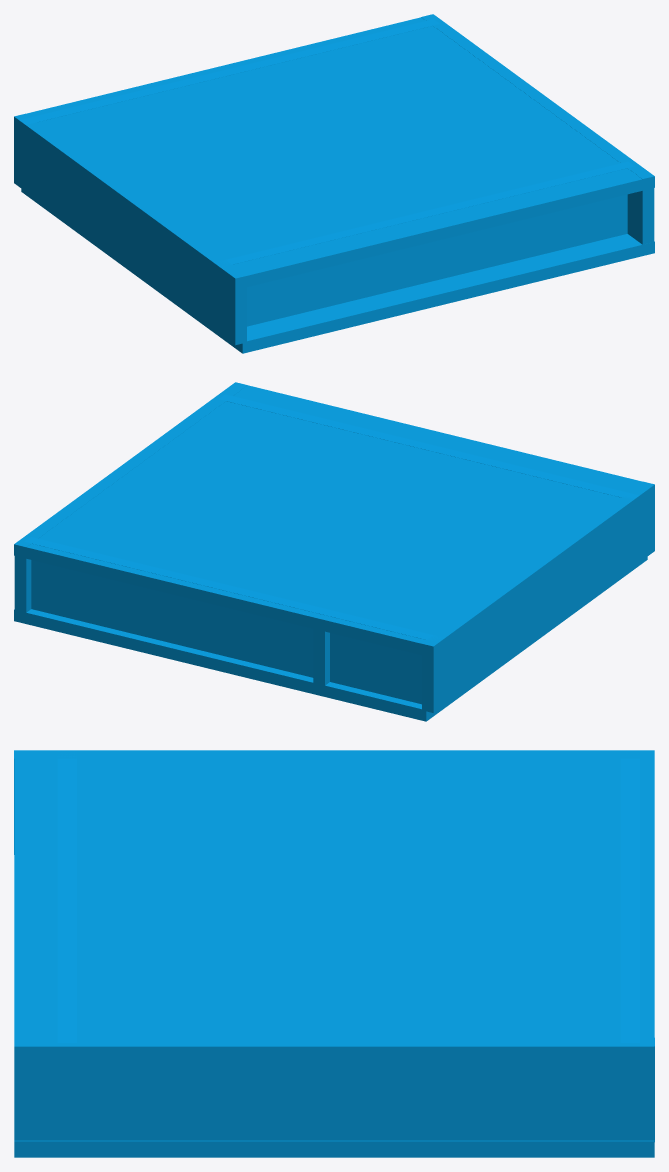
Rendered from vrlaserroomwithbottomandclosed.fbx.
3 renders of one model, top to bottom at view 1: azimuth 30°, elevation 25°; view 2: azimuth 150°, elevation 25°; view 3: azimuth 270°, elevation 25°, orthographic. The views are drawn at different scales.
Visible parts, largest first — view 1: root (×6); view 2: root (×7); view 3: root (×6).
Boxes of the visible parts, x1,y1,x2,y2 form: root (×6): [14, 14, 654, 353]; root (×7): [14, 382, 654, 721]; root (×6): [14, 750, 654, 1157].
Bounding box in the file's own units: 3.05 × 0.5342 × 2.79.
Materials: 3 (1 with a texture image).
